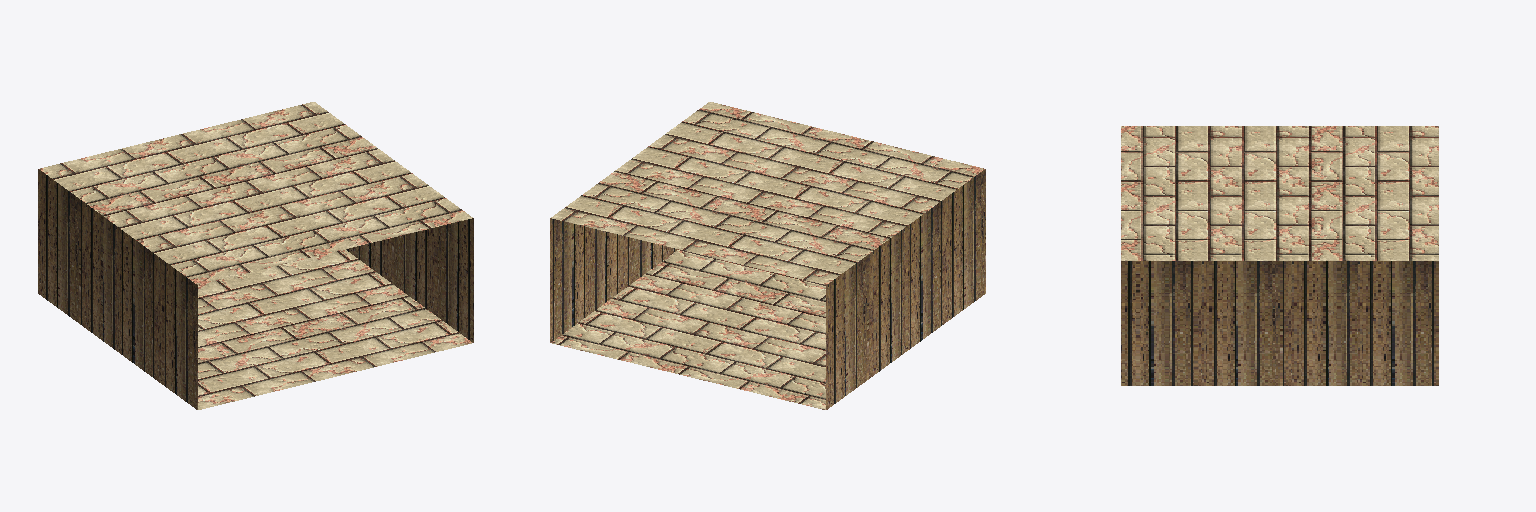
The picture shows the model from 3 angles: view 1: azimuth 30°, elevation 25°; view 2: azimuth 150°, elevation 25°; view 3: azimuth 270°, elevation 25°; orthographic projection.
Parts seen in each view (by area): view 1: mesh01; view 2: mesh01; view 3: mesh01.
Part boxes in pixels (x1,y1,x2,y2): mesh01: (38, 102, 473, 409); mesh01: (550, 102, 985, 409); mesh01: (1121, 126, 1438, 385).
Size of the model in its own units: 1325 by 574 by 1325.
1 materials, 1 textured.